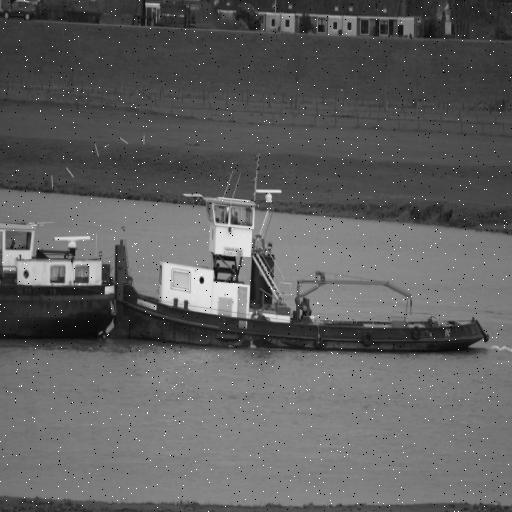tugboat: (113, 184, 496, 367)
